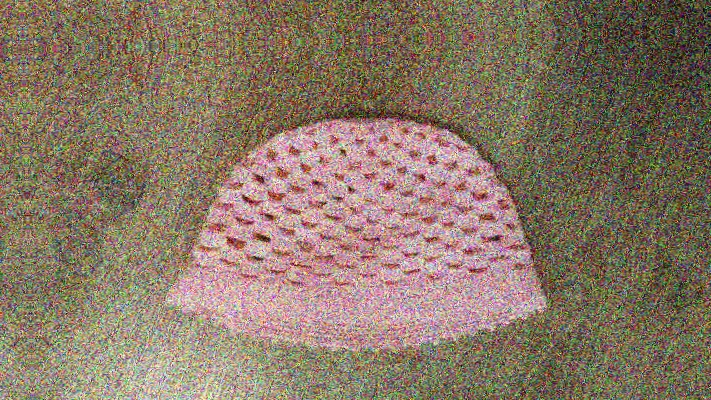Hat: (149, 69, 571, 369), (139, 0, 561, 11)
